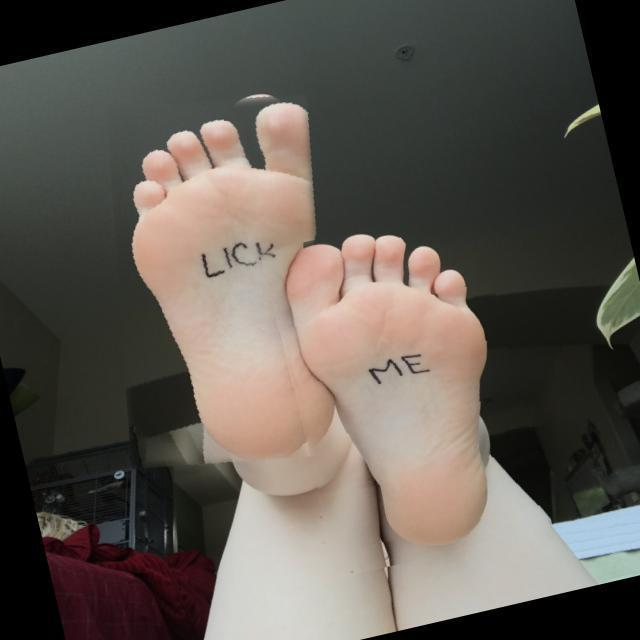Barefoots: (120, 92, 327, 470), (281, 226, 507, 563)
